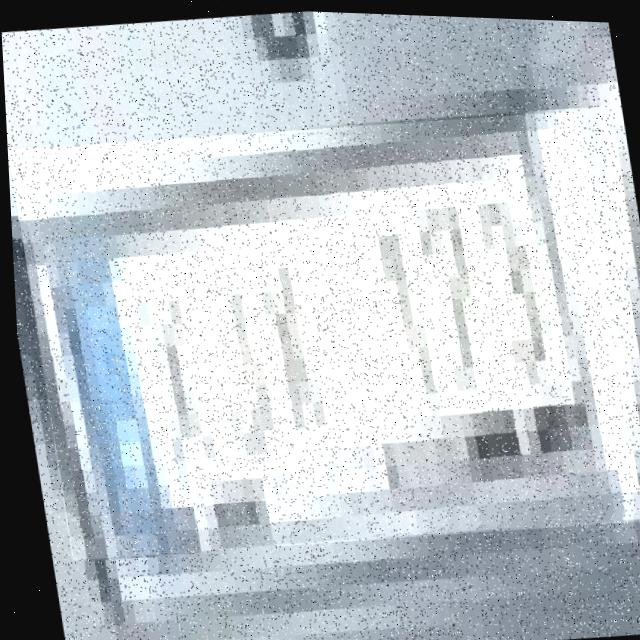LicensePlate: (4, 89, 640, 576)
